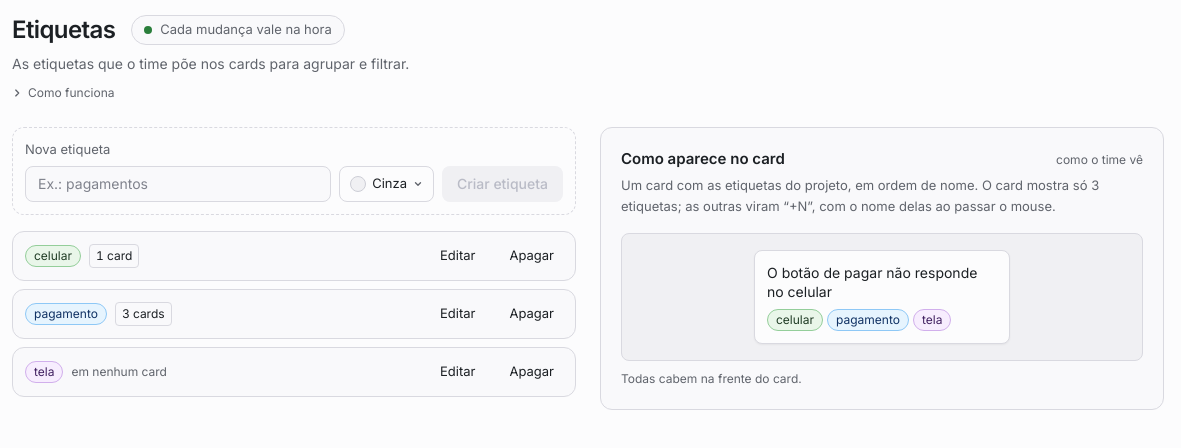
Test: a tela de Etiquetas › a recusa ao criar fica no campo, com o texto acentuado
Expected: the button with aria-label "Editar pagamento" is shown, [427,298,488,330]
In the field labelled "Nova etiqueta": (178, 184) [25,166,331,202], type "x"
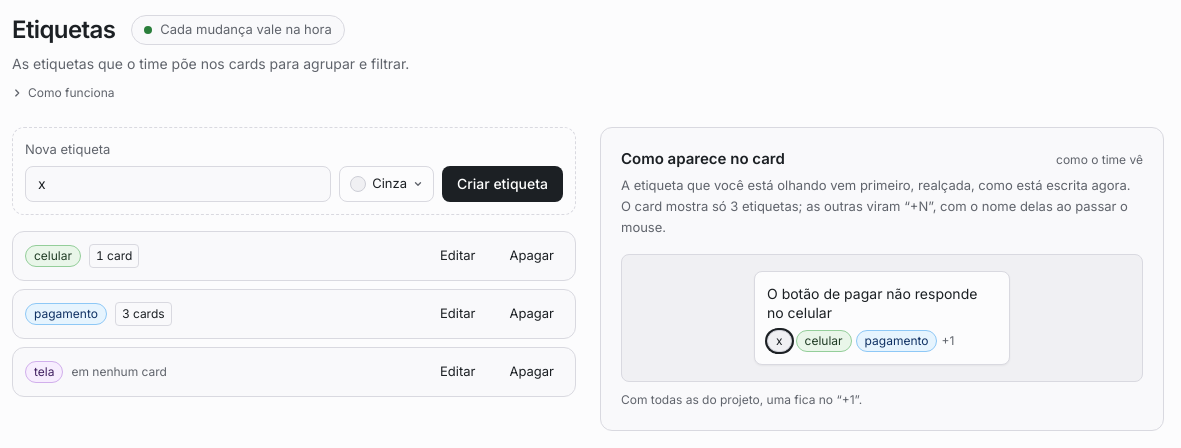
Click the button "Criar etiqueta": (502, 184) [442,166,563,202]
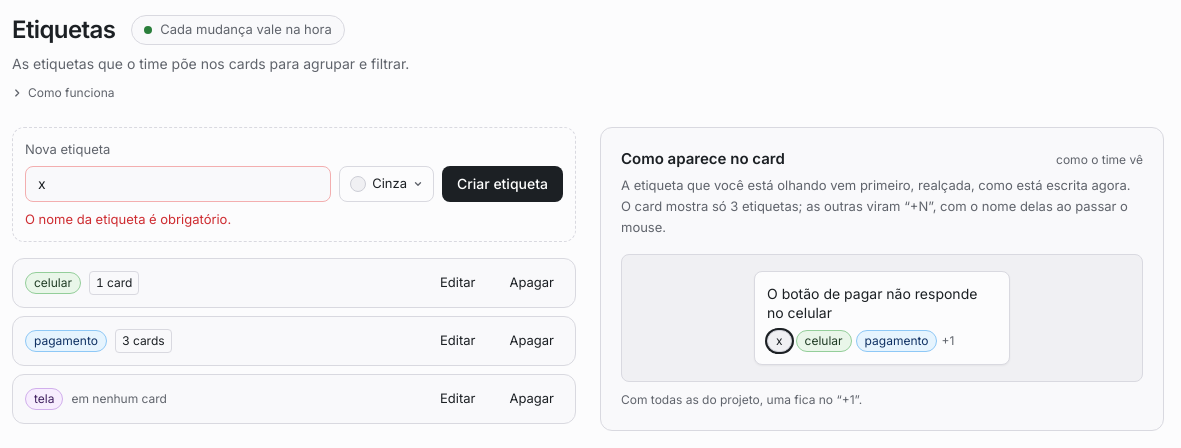
Expected: the text "O nome da etiqueta é obrigatório." is shown, [25,210,231,226]
